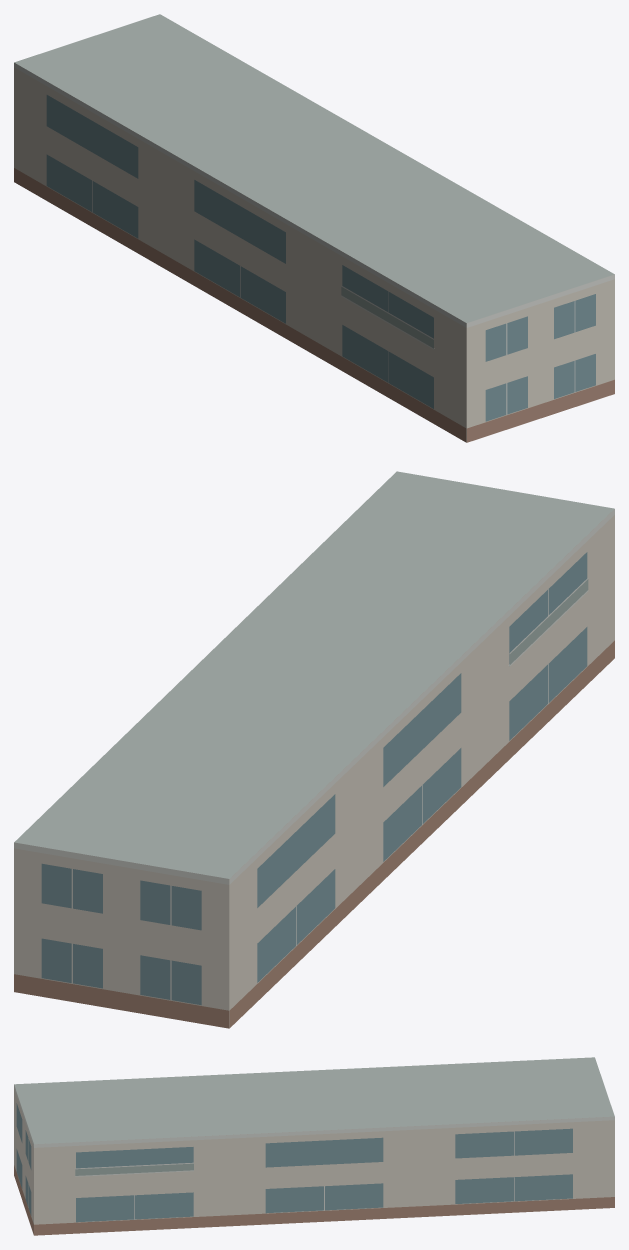
Rendered from survey-upis-32773017.glb.
3 views of the same model, one above another, from view 1: azimuth 30°, elevation 25°; view 2: azimuth 150°, elevation 25°; view 3: azimuth 270°, elevation 25° (orthographic). The views are drawn at different scales.
Visible parts, largest first — view 1: survey-upis-32773017.tmp; view 2: survey-upis-32773017.tmp; view 3: survey-upis-32773017.tmp.
Boxes of the visible parts, x1,y1,x2,y2 form: survey-upis-32773017.tmp: (14, 14, 614, 442); survey-upis-32773017.tmp: (14, 471, 614, 1028); survey-upis-32773017.tmp: (14, 1057, 614, 1235).
Size of the model in its own units: 12.47 by 6.1 by 36.39.
